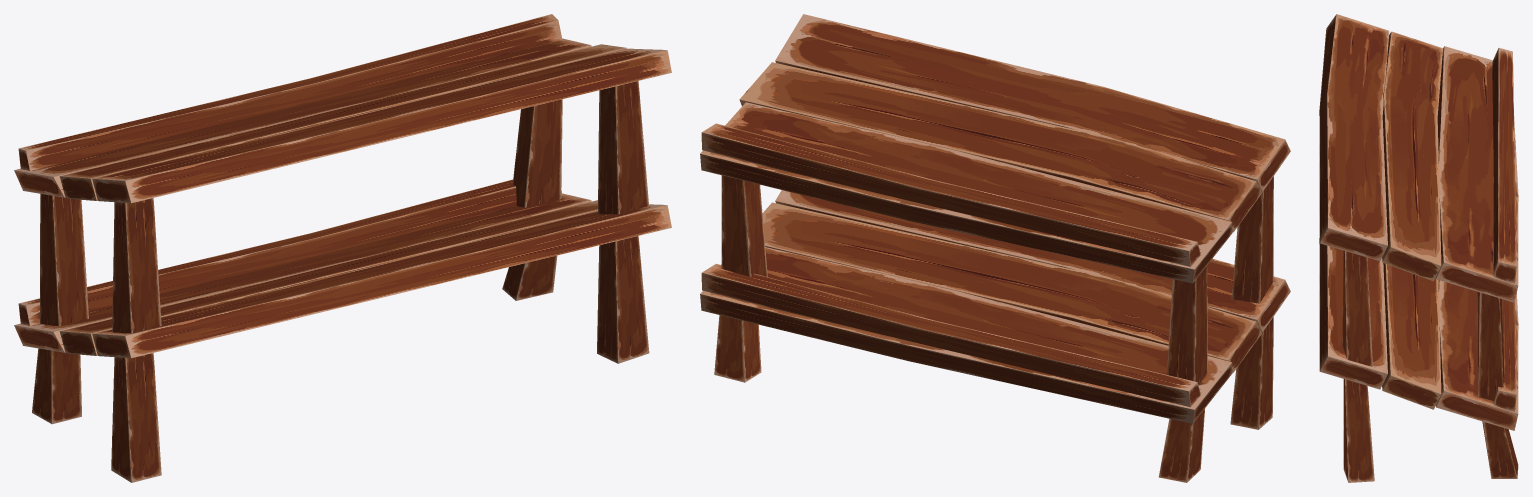
File: SM_PROP_market_shelf_03.fbx
3 views of the same model, side by side, from view 1: azimuth 30°, elevation 25°; view 2: azimuth 150°, elevation 25°; view 3: azimuth 270°, elevation 25° (orthographic). The views are drawn at different scales.
Visible parts, largest first — view 1: SM_PROP_market_shelf_03; view 2: SM_PROP_market_shelf_03; view 3: SM_PROP_market_shelf_03.
Boxes of the visible parts, x1=… form: SM_PROP_market_shelf_03: x1=14, y1=14, x2=671, y2=482; SM_PROP_market_shelf_03: x1=700, y1=14, x2=1290, y2=482; SM_PROP_market_shelf_03: x1=1319, y1=14, x2=1518, y2=482.
Bounding box in the file's own units: 293 × 160 × 112.
